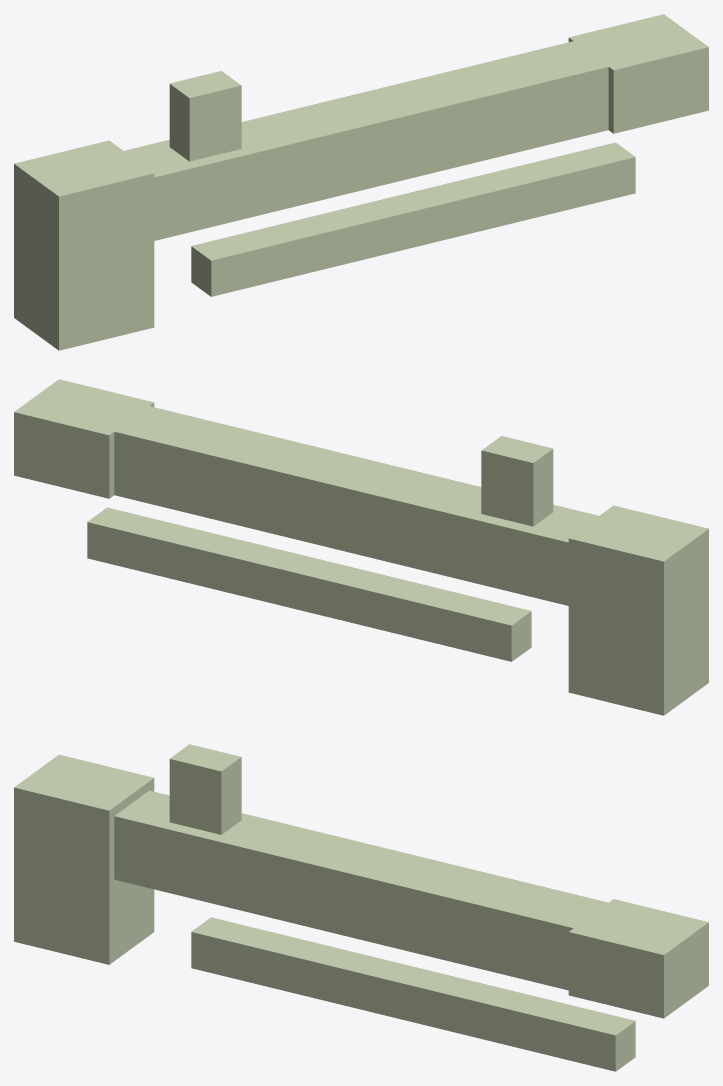
File: furniture_signal_cantilever_backspan_stub.glb
3 renders of one model, top to bottom at view 1: azimuth 30°, elevation 25°; view 2: azimuth 150°, elevation 25°; view 3: azimuth 330°, elevation 25°, orthographic.
Parts seen in each view (by area): view 1: backspan_arm, mast_clamp, backspan_brace, cap_plate, service_tab; view 2: backspan_arm, mast_clamp, backspan_brace, cap_plate, service_tab; view 3: backspan_arm, backspan_brace, mast_clamp, cap_plate, service_tab.
Boxes of the visible parts, box(x1,y1,x2,y2) form: backspan_arm: box(124, 26, 668, 240); mast_clamp: box(14, 140, 154, 350); backspan_brace: box(191, 142, 635, 296); cap_plate: box(568, 14, 708, 133); service_tab: box(169, 71, 241, 161); backspan_arm: box(54, 391, 598, 605); mast_clamp: box(568, 505, 708, 715); backspan_brace: box(87, 507, 531, 661); cap_plate: box(14, 379, 154, 498); service_tab: box(481, 436, 553, 526); backspan_arm: box(114, 790, 668, 990); backspan_brace: box(191, 917, 635, 1071); mast_clamp: box(14, 754, 154, 964); cap_plate: box(568, 899, 708, 1018); service_tab: box(169, 744, 241, 834).
Bounding box in the file's own units: 1.5 × 0.46 × 0.18.
